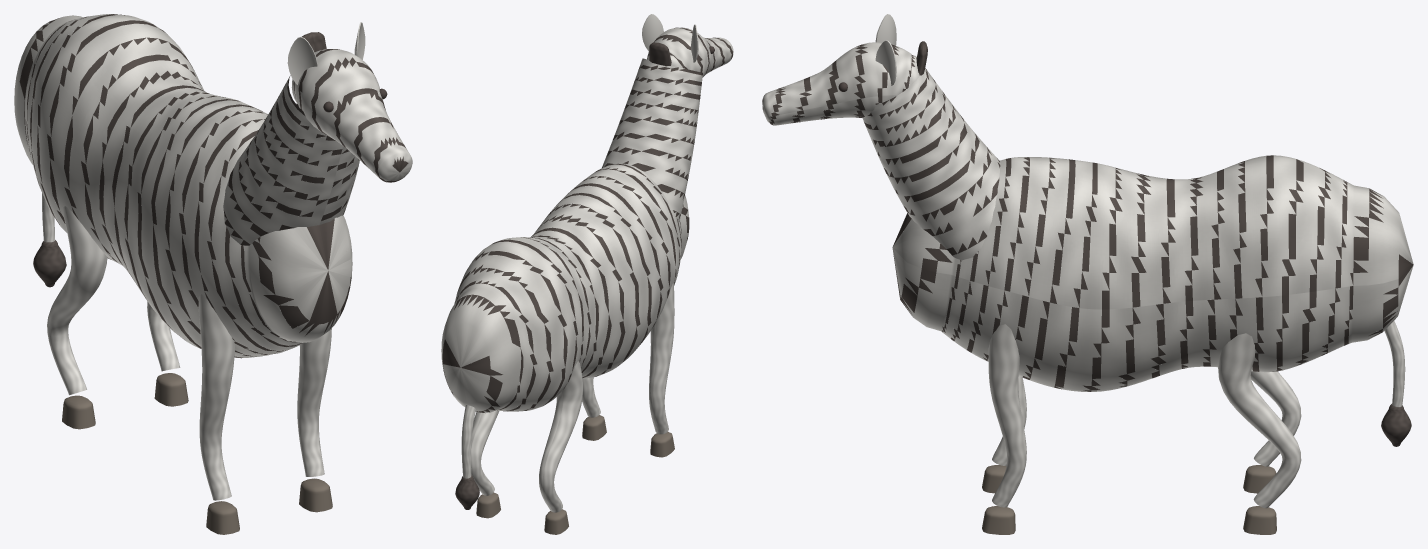
File: other-plains-zebra.glb
The picture shows the model from 3 angles, left to right: view 1: azimuth 30°, elevation 25°; view 2: azimuth 150°, elevation 25°; view 3: azimuth 270°, elevation 25°; orthographic projection. The views are drawn at different scales.
Visible parts, largest first — view 1: plains-zebra; view 2: plains-zebra; view 3: plains-zebra.
Part boxes in pixels (x1=…): plains-zebra: x1=14, y1=14, x2=412, y2=534; plains-zebra: x1=441, y1=14, x2=733, y2=534; plains-zebra: x1=762, y1=14, x2=1413, y2=534.
Size of the model in its own units: 0.5562 by 1.91 by 2.33.
Materials: 5 (2 with a texture image).
